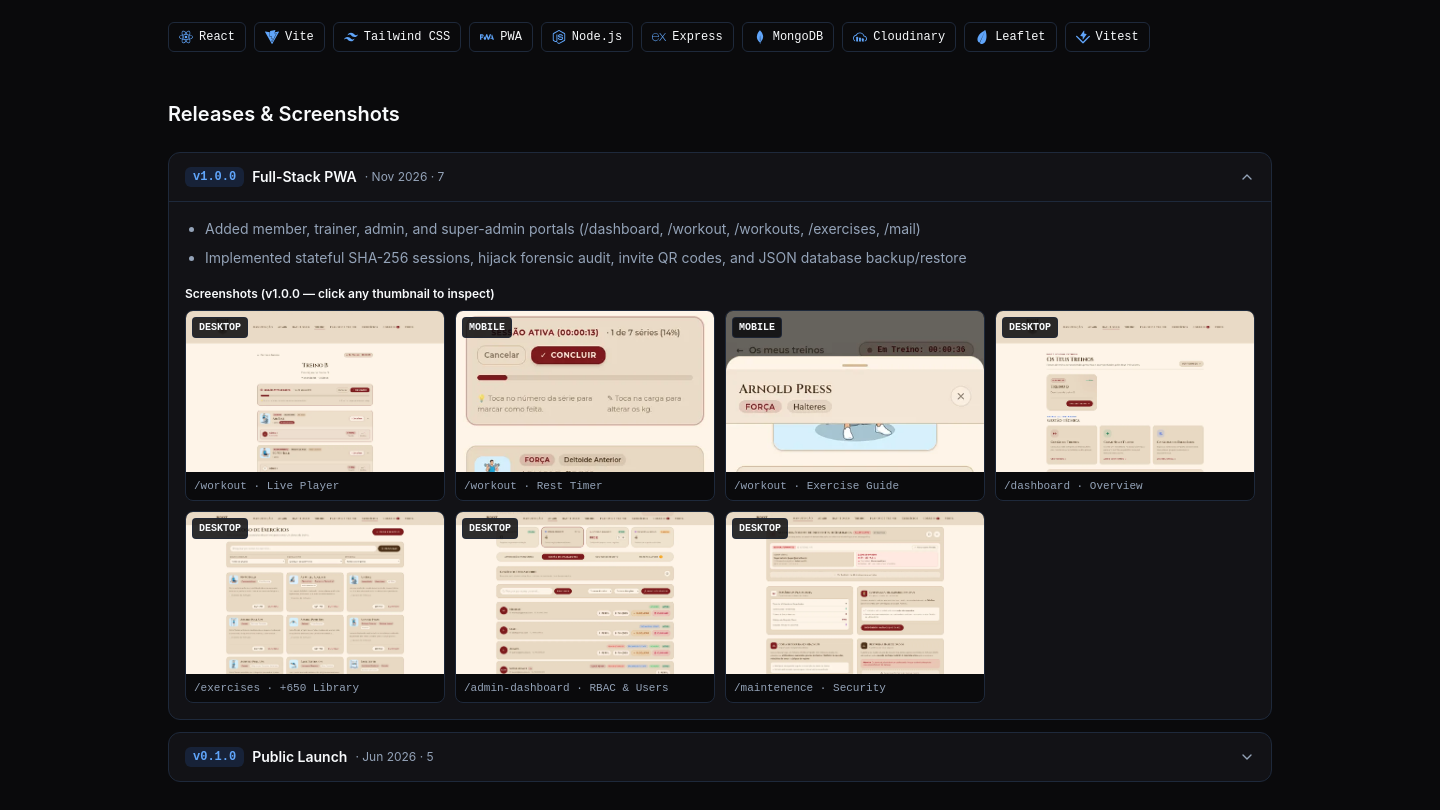
Test: ProjectDetails page › renders metadata strip, release accordions, and interactive lightbox
(page scrolled)
What coordinates should you click on to do the following:
click the button named "Live workout player with session progress and timer"
I would click on:
 (315, 405)
Its box is [185, 310, 445, 501].
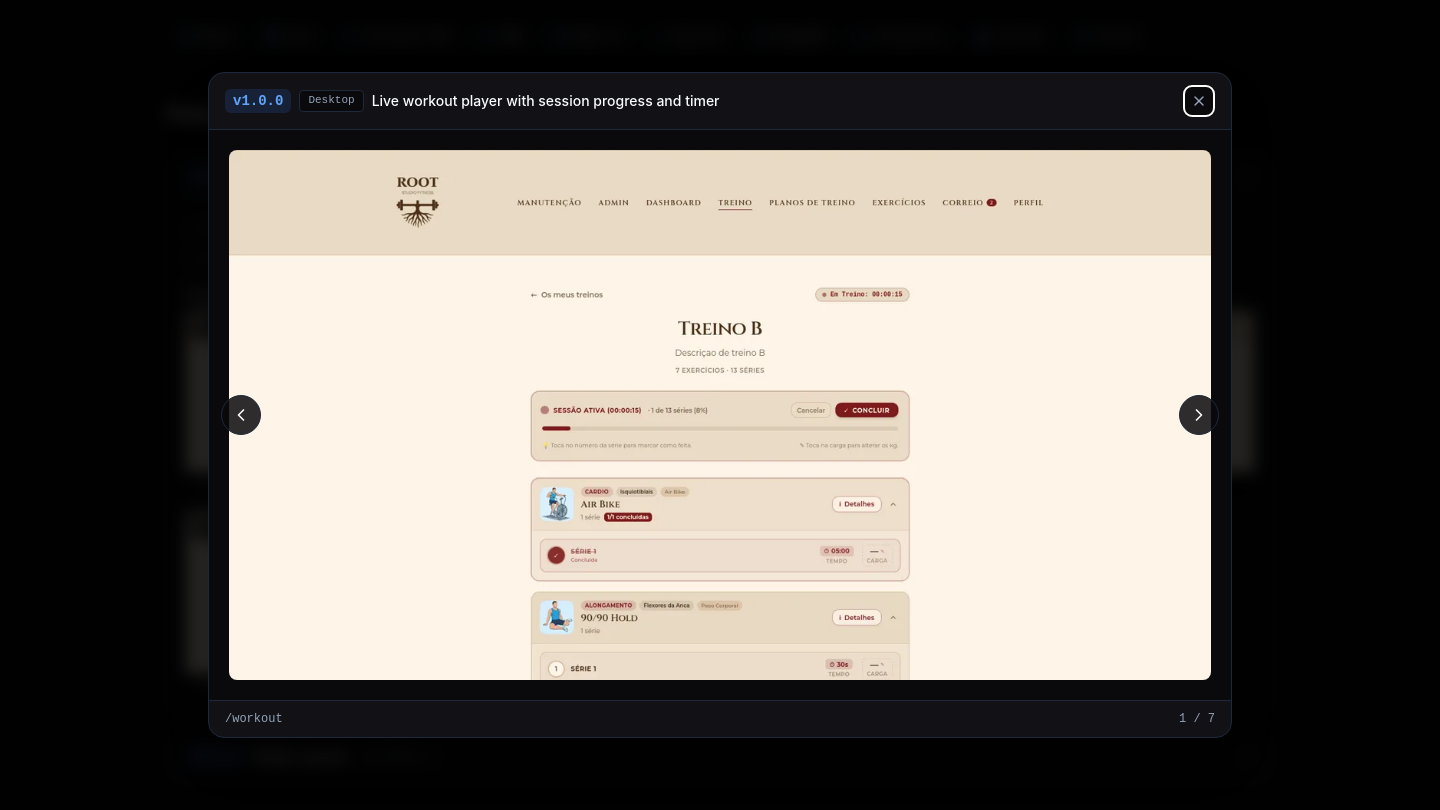
Now the text "1 / 7" is shown, box [1179, 711, 1215, 727]
What coordinates should you click on to do the following:
click the button named "Next screenshot"
I would click on:
 (1199, 415)
Its box is [1179, 395, 1219, 435].
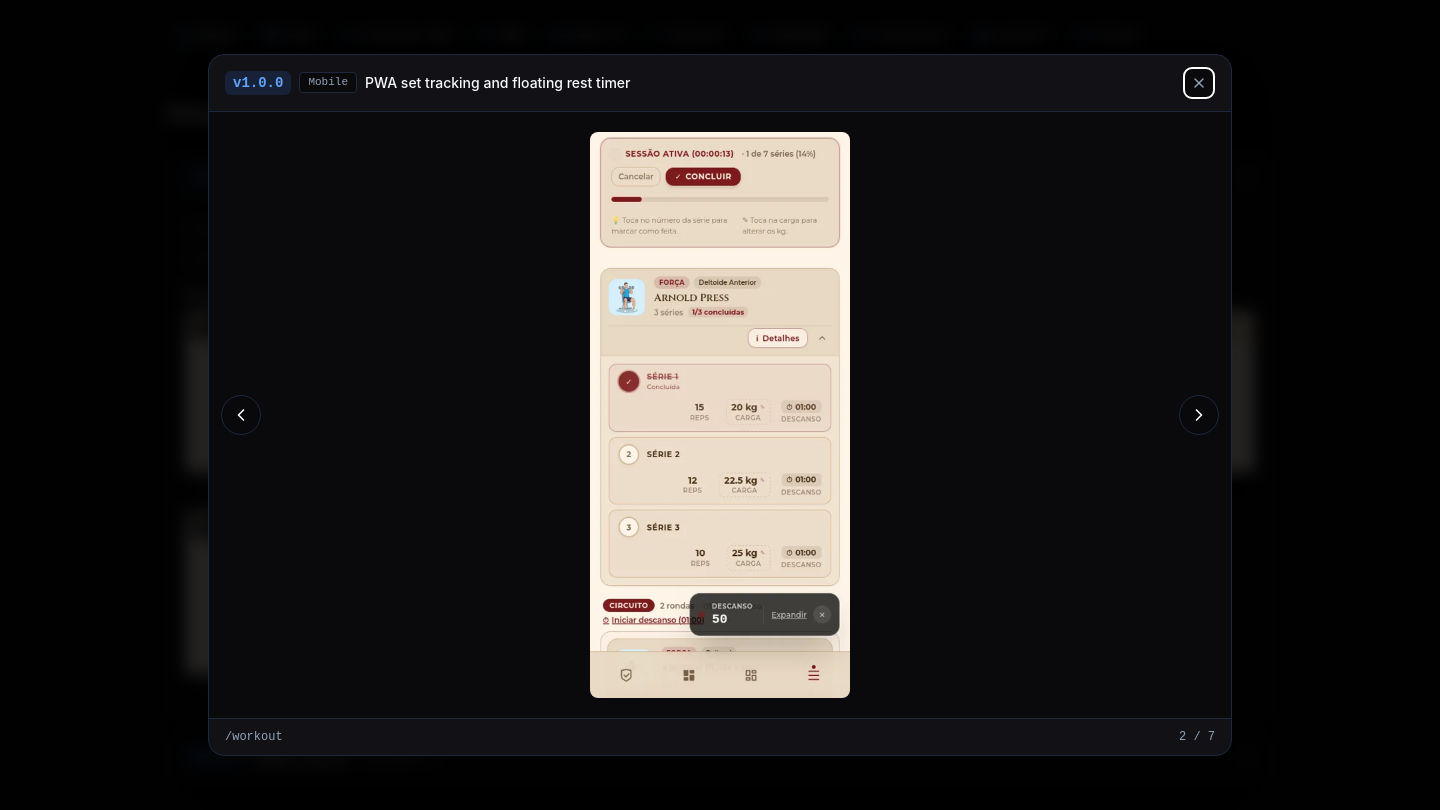
Now the text "2 / 7" is shown, box [1179, 730, 1215, 746]
What coordinates should you click on to do the following:
click the button named "Previous screenshot"
I would click on:
 (241, 415)
Its box is [221, 395, 261, 435].
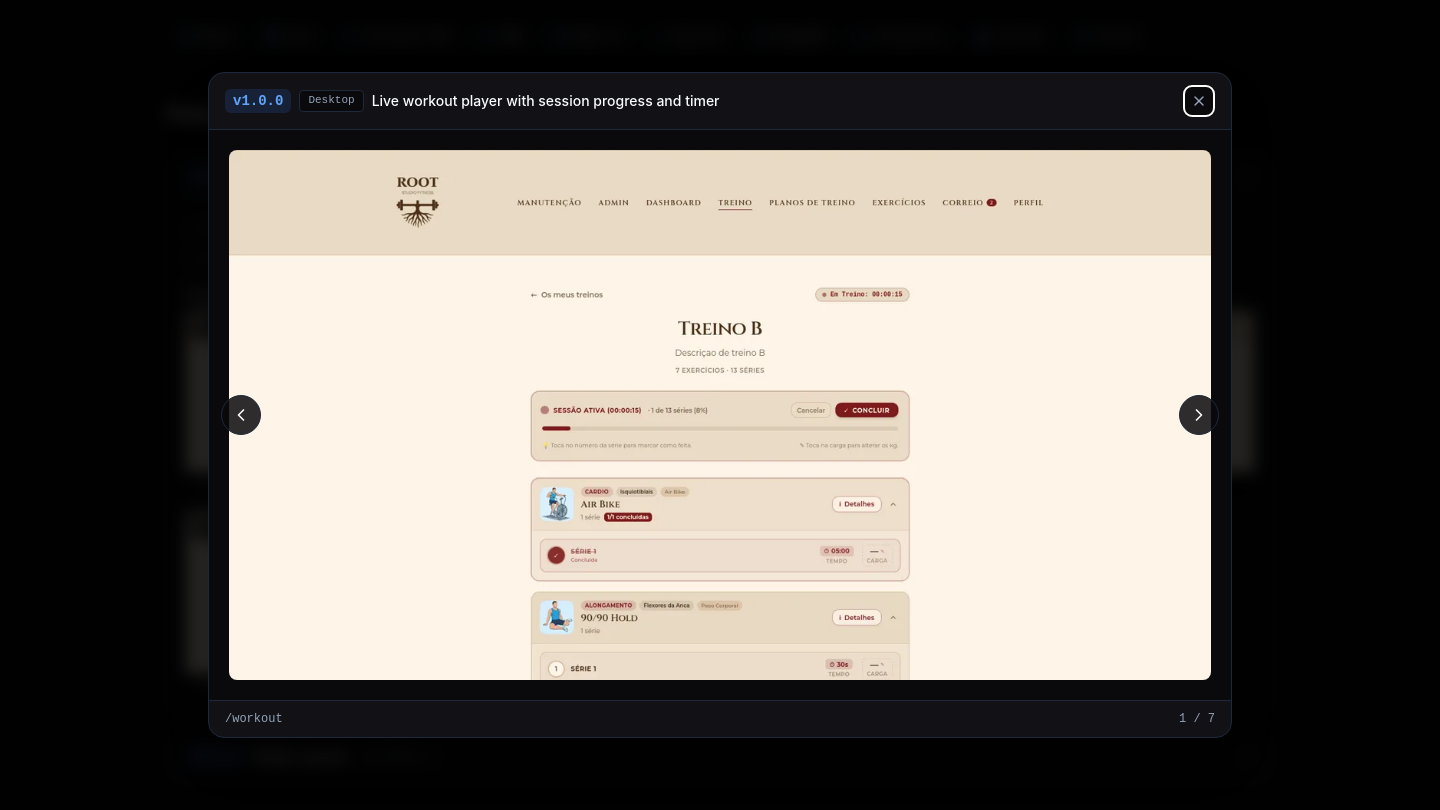
Now the text "1 / 7" is shown, box [1179, 711, 1215, 727]
What coordinates should you click on to do the following:
click the button named "Close gallery"
I would click on:
 (1199, 101)
Its box is [1183, 85, 1215, 117].
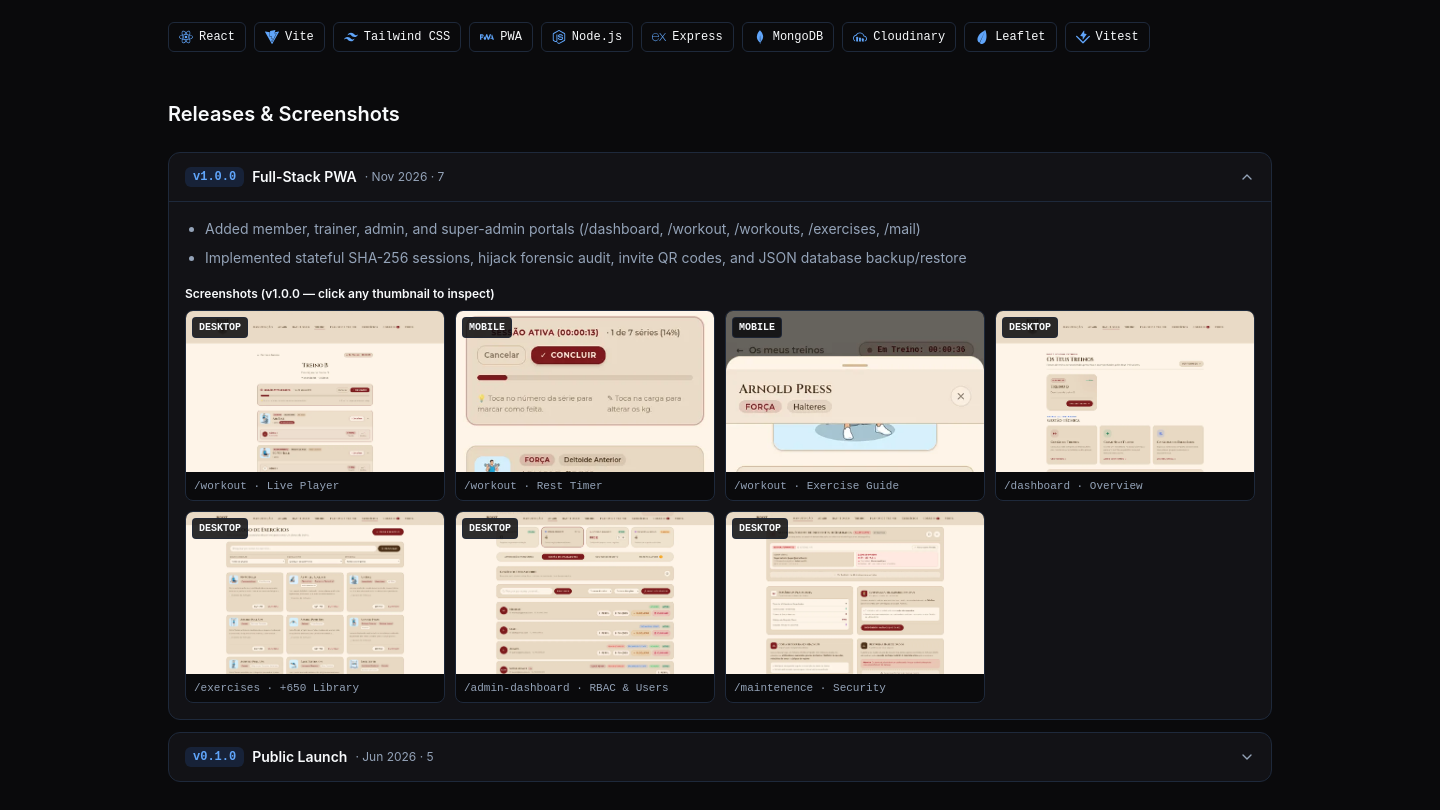
Now the text "1 / 7" is gone
What coordinates should you click on to do the following:
click the button "v0.1.0 Public Launch · Jun 2026 · 5"
I would click on:
 (215, 757)
Its box is [169, 733, 1271, 781].
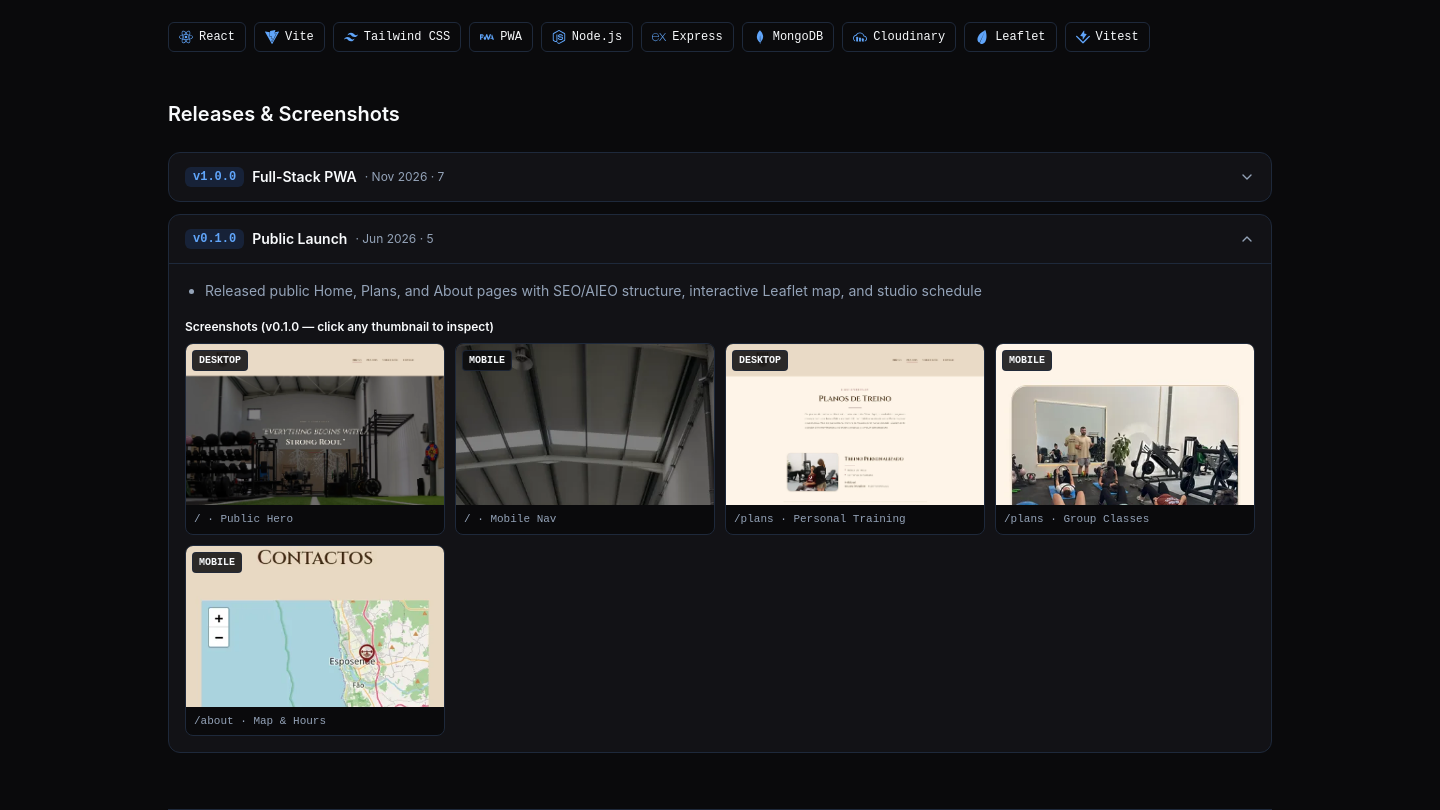
Now the button "v0.1.0 Public Launch · Jun 2026 · 5" is expanded, box [169, 215, 1271, 263]
Now the button "v1.0.0 Full-Stack PWA · Nov 2026 · 7" is collapsed, box [169, 153, 1271, 201]
